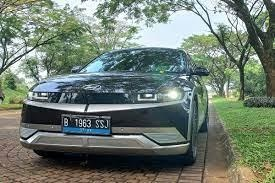plate: (63, 116, 111, 136)
